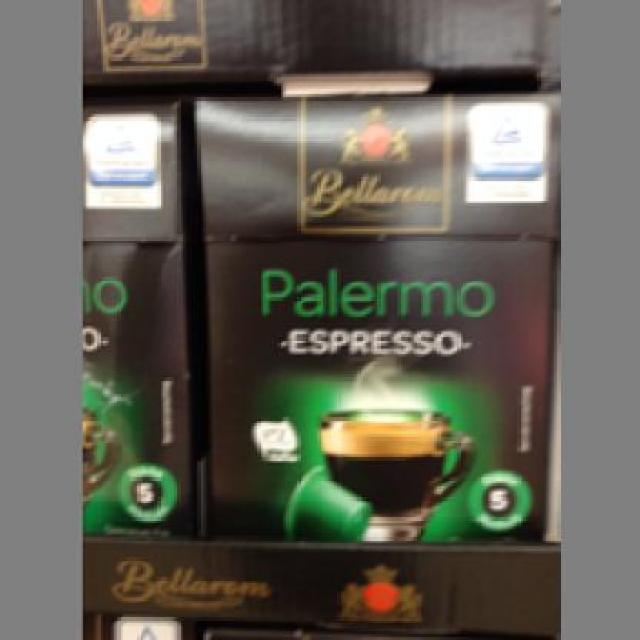Coffee: (188, 88, 558, 544)
